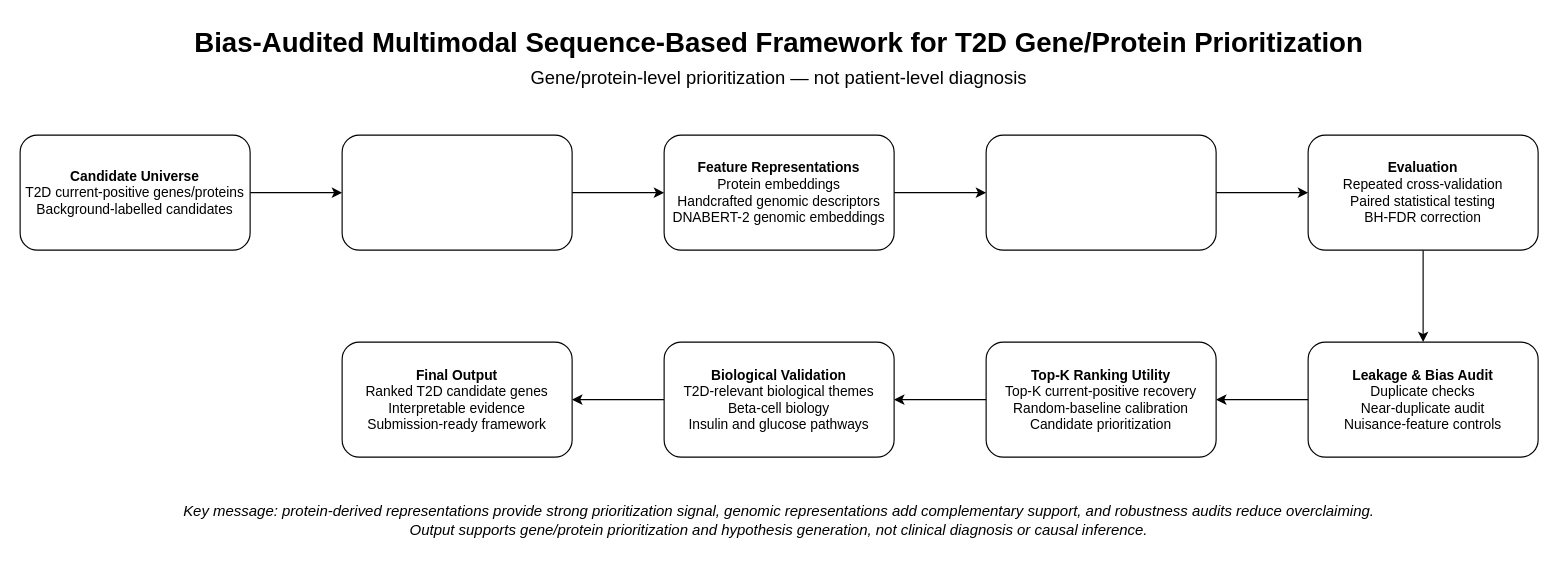
Some shapes in this 1558 by 568 pixel diagram are drawn without their labels. The shapes that lost their labels are listed below. From the top down, each one's centre as x and y in pixels, then its label:
the point at 456,192: Sequence Inputs Protein sequences Genomic regulatory sequences
the point at 1100,192: Modeling Genomic-only models Protein-only models Multimodal fusion models
